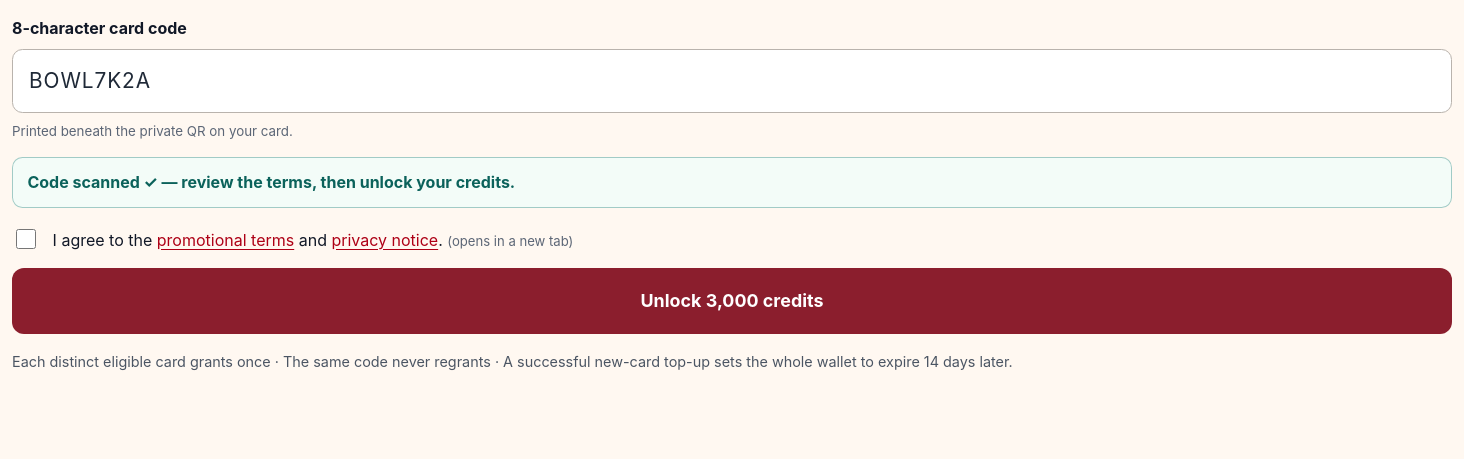
Test: RedeemForm › maps a paused validation response to explicit localized guidance in en
Click the checkbox named "termsAccepted" at (26, 239), box left=16, top=229, right=36, bottom=249
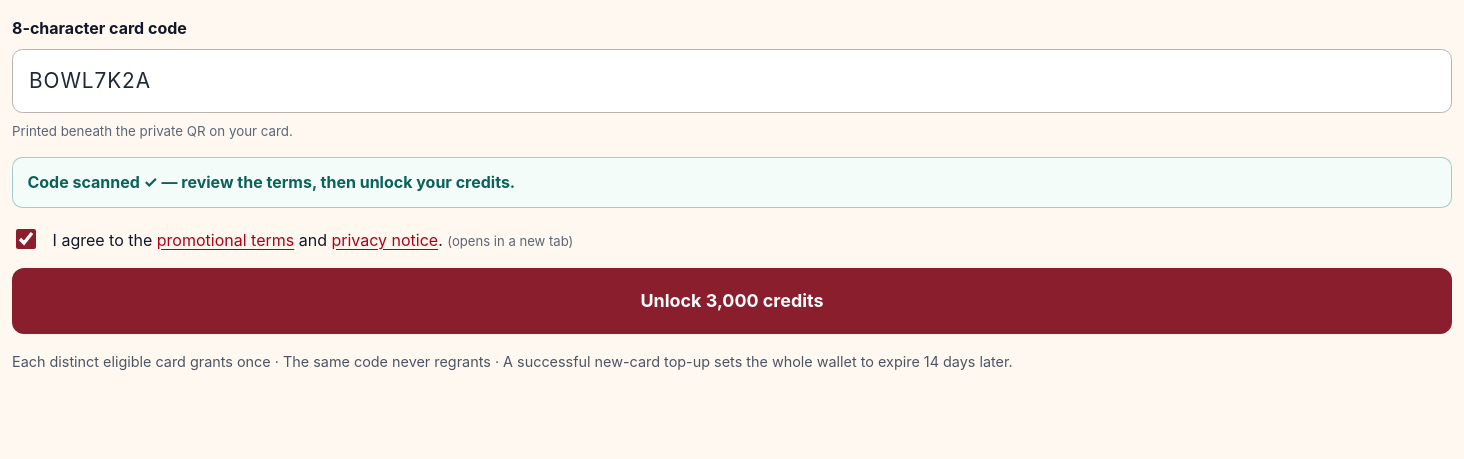
Submit the form
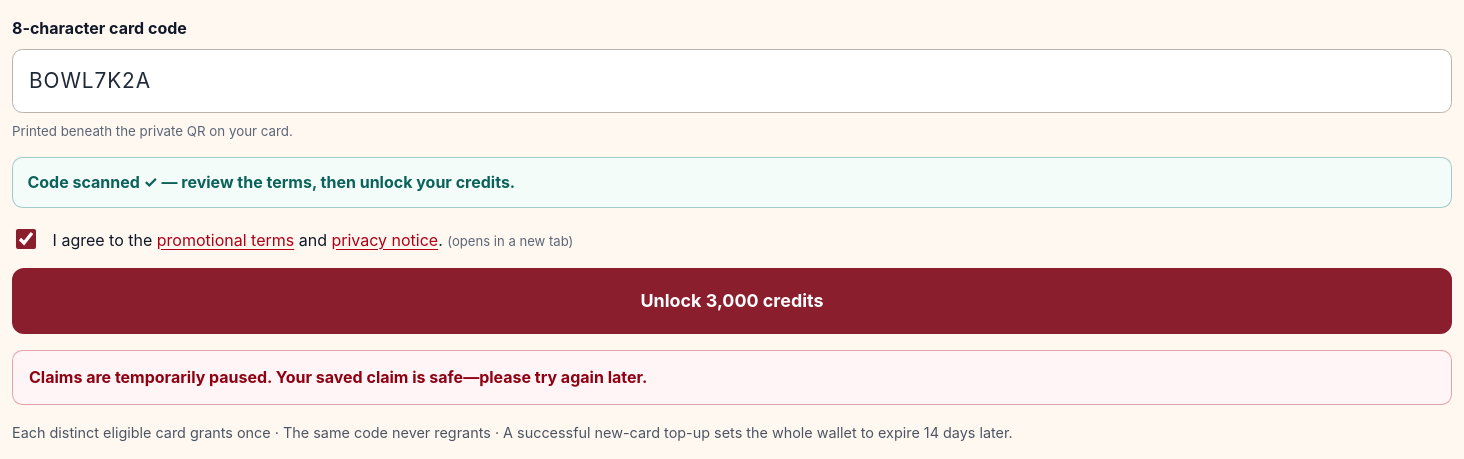
Result: the text "Claims are temporarily paused. Your saved claim is safe—please try again later." is shown at left=29, top=365, right=647, bottom=389
